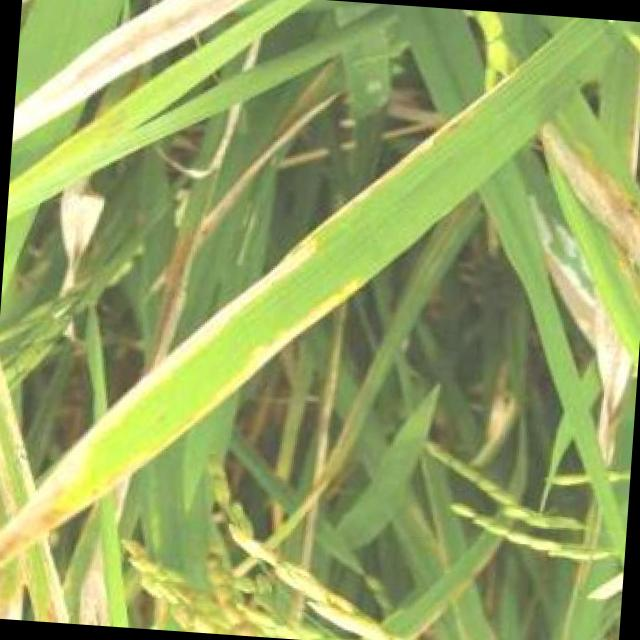Rice_Bacterial_Blight: (60, 366, 196, 481), (51, 15, 153, 104)
